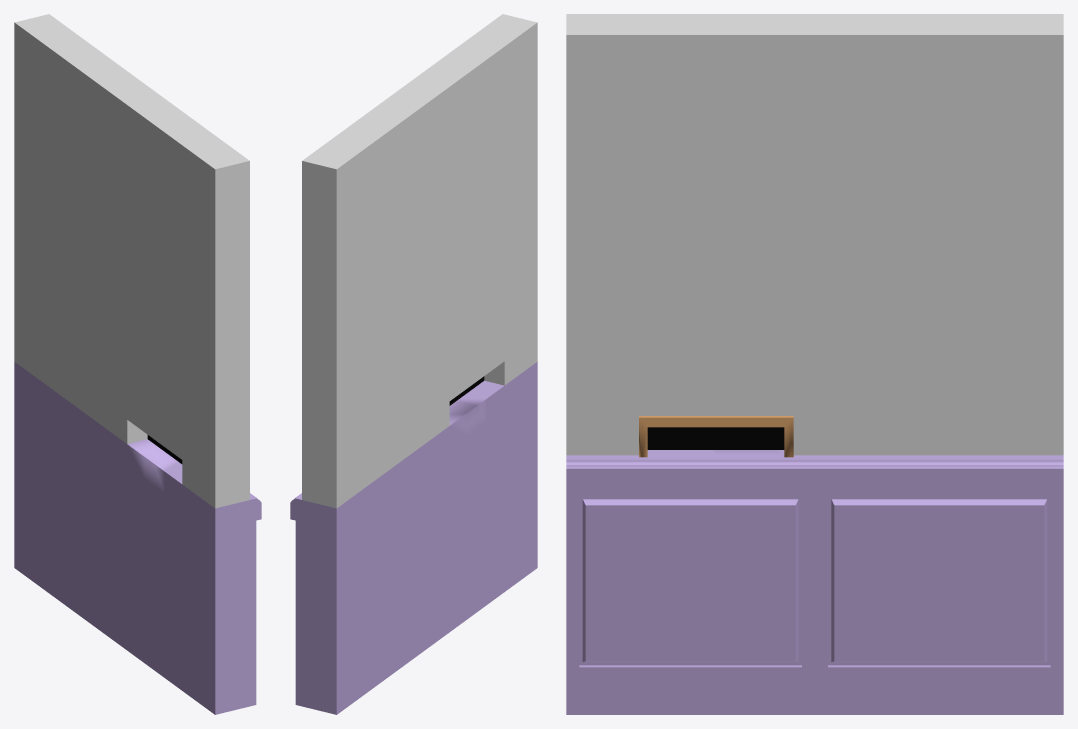
Rendered from WallWIthBlackHole.fbx.
The picture shows the model from 3 angles, left to right: view 1: azimuth 30°, elevation 25°; view 2: azimuth 150°, elevation 25°; view 3: azimuth 270°, elevation 25°; orthographic projection. The views are drawn at different scales.
Visible parts, largest first — view 1: Wall_M; view 2: Wall_M; view 3: Wall_M, Cube.
Part boxes in pixels (x1=…): Wall_M: x1=14, y1=14, x2=261, y2=714; Wall_M: x1=290, y1=14, x2=537, y2=714; Wall_M: x1=566, y1=14, x2=1063, y2=714; Cube: x1=647, y1=427, x2=784, y2=449.
Size of the model in its own units: 26.66 by 300 by 200.
